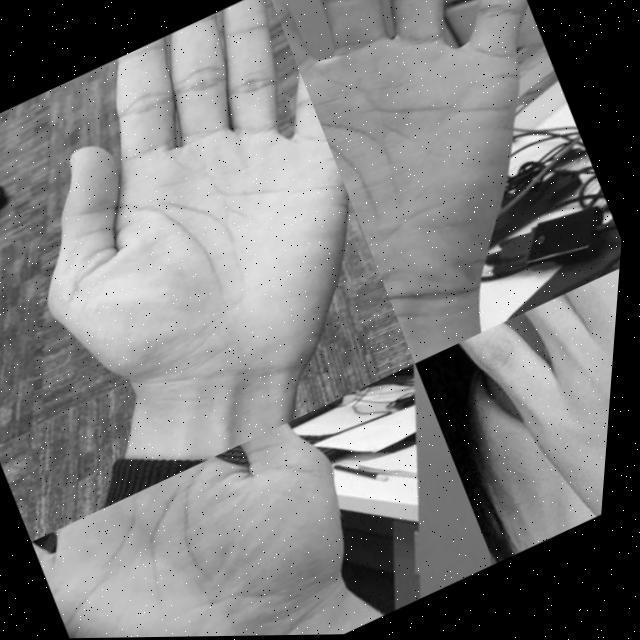no-gloves: (0, 0, 423, 463), (247, 0, 624, 310), (32, 411, 408, 639), (428, 264, 624, 558)
